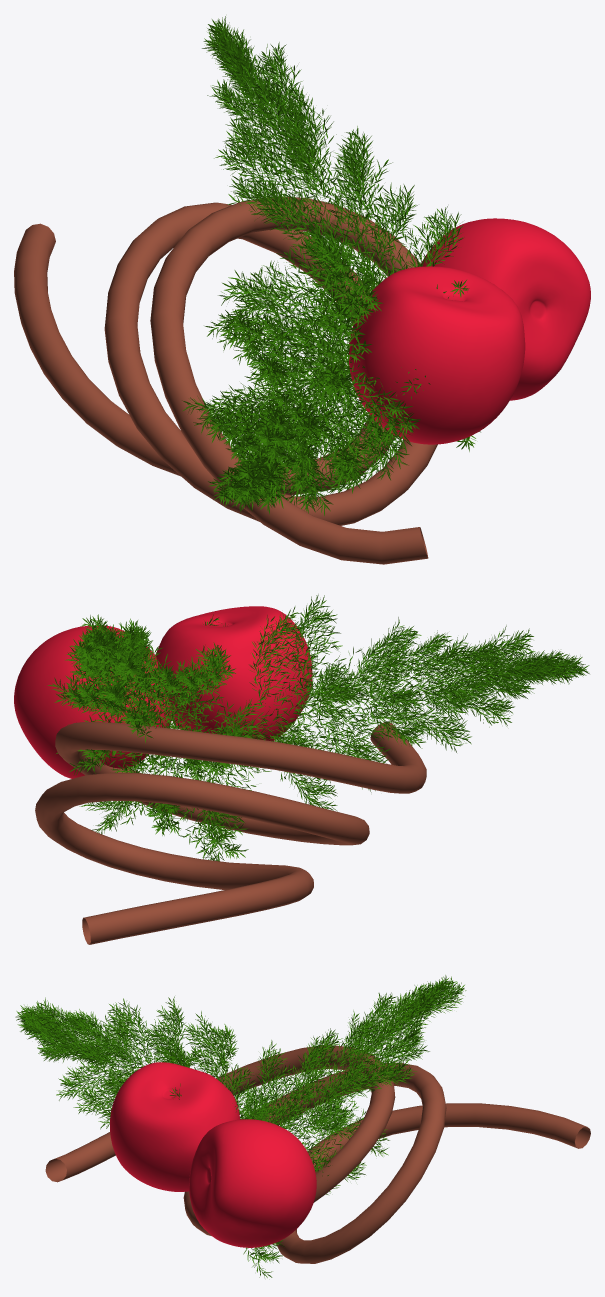
File: cherry-tree-draco.glb
3 renders of one model, top to bottom at view 1: azimuth 30°, elevation 25°; view 2: azimuth 150°, elevation 25°; view 3: azimuth 270°, elevation 25°, orthographic. The views are drawn at different scales.
Visible parts, largest first — view 1: leaves; view 2: leaves; view 3: leaves.
Part boxes in pixels (box(x1,y1,x2,y2)): leaves: box(14, 16, 590, 564); leaves: box(14, 594, 589, 944); leaves: box(15, 975, 590, 1277).
Size of the model in its own units: 6.36 by 4.52 by 8.55.
